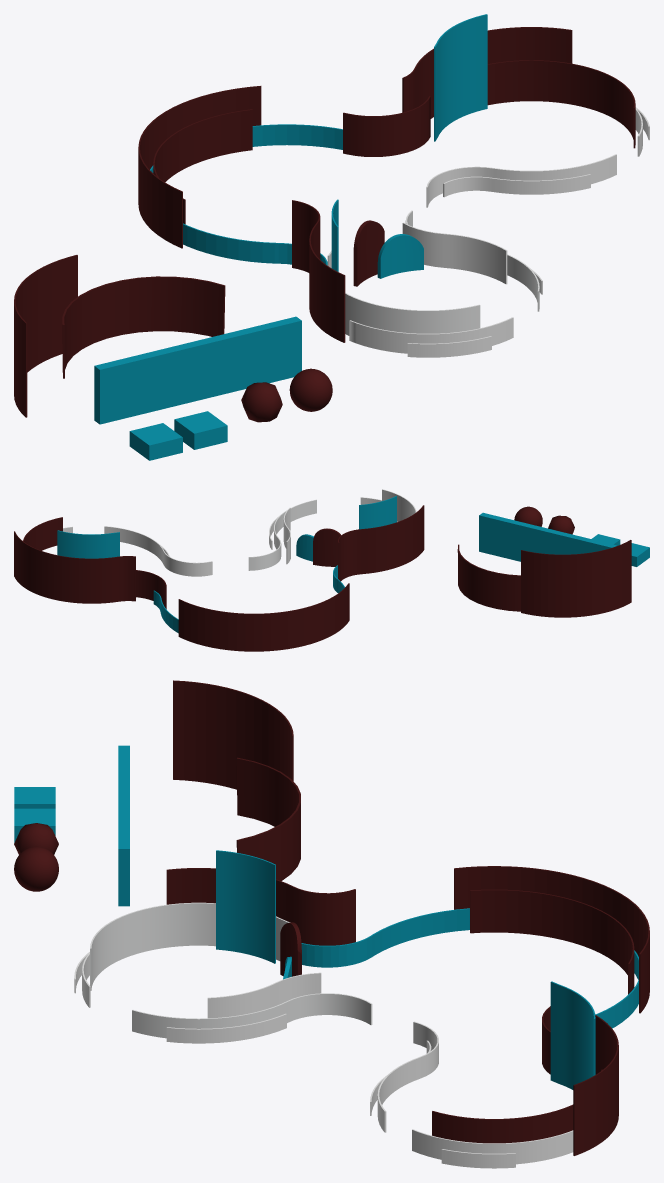
The model's file is meeting3.fbx.
The picture shows the model from 3 angles, top to bottom: view 1: azimuth 30°, elevation 25°; view 2: azimuth 150°, elevation 25°; view 3: azimuth 270°, elevation 25°; orthographic projection. The views are drawn at different scales.
Visible parts, largest first — view 1: Group7, Group13, Group6, Box003, Box004, Group14, Group15, Group9, Group16, Group5, Difference, Difference1 (+6 smaller); view 2: Group13, Group7, Box003, Box004, Group6, Group16, Group4, Difference1, Group14, Sphere002, Difference, Sphere001 (+1 smaller); view 3: Group7, Group13, Group6, Group15, Box004, Group14, Group4, Group5, Group8, Group16, Box003, Sphere002 (+4 smaller).
Boxes of the visible parts, x1,y1,x2,y2 form: Group7: (14, 14, 507, 417); Group13: (138, 27, 572, 342); Group6: (327, 60, 635, 335); Box003: (94, 316, 301, 424); Box004: (62, 276, 225, 378); Group14: (150, 124, 342, 265); Group15: (153, 109, 252, 224); Group9: (349, 317, 513, 353); Group16: (426, 154, 616, 207); Group5: (443, 107, 649, 294); Difference: (377, 234, 423, 278); Difference1: (353, 220, 384, 286); Group13: (14, 505, 424, 651); Group7: (57, 496, 631, 617); Box003: (479, 512, 616, 561); Box004: (457, 544, 520, 611); Group6: (23, 489, 416, 608); Group16: (104, 526, 212, 576); Group4: (248, 499, 316, 570); Difference1: (313, 528, 340, 566); Group14: (153, 565, 344, 633); Sphere002: (514, 506, 542, 526); Difference: (296, 534, 313, 561); Sphere001: (548, 515, 574, 534); Group7: (173, 680, 595, 1089); Group13: (166, 866, 649, 1155); Group6: (90, 902, 602, 1143); Group15: (470, 889, 634, 994); Box004: (236, 757, 300, 880); Group14: (301, 908, 638, 1028); Group4: (132, 993, 372, 1038); Group5: (166, 1013, 515, 1168); Group8: (412, 1129, 573, 1164); Group16: (377, 1021, 438, 1132); Box003: (118, 745, 129, 906); Sphere002: (14, 846, 58, 891).
Bounding box in the file's own units: 857 × 102 × 592.
